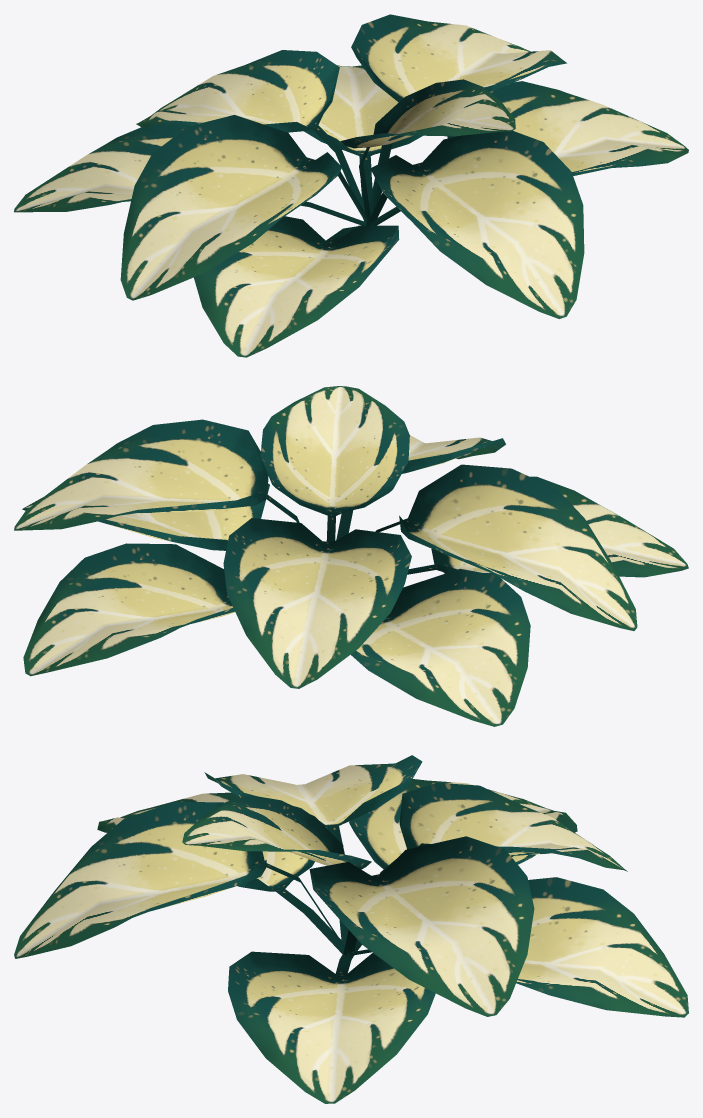
File: Hosta_Y_01.fbx
3 views of the same model, one above another, from view 1: azimuth 30°, elevation 25°; view 2: azimuth 150°, elevation 25°; view 3: azimuth 270°, elevation 25° (orthographic). The views are drawn at different scales.
Parts seen in each view (by area): view 1: Hosta_Y_01; view 2: Hosta_Y_01; view 3: Hosta_Y_01.
Boxes of the visible parts, x1=… form: Hosta_Y_01: x1=14, y1=14, x2=688, y2=357; Hosta_Y_01: x1=14, y1=386, x2=688, y2=726; Hosta_Y_01: x1=14, y1=755, x2=688, y2=1103.
Size of the model in its own units: 111 by 26.49 by 106.
